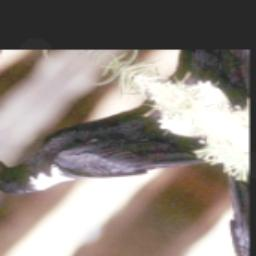Crow: (0, 61, 237, 256)
